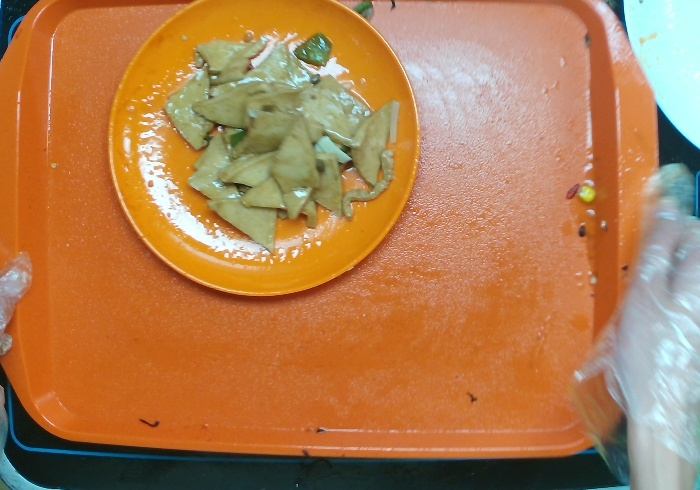HZYJPL-Ju_Huang_Yuan_Pan: (100, 1, 432, 333)
